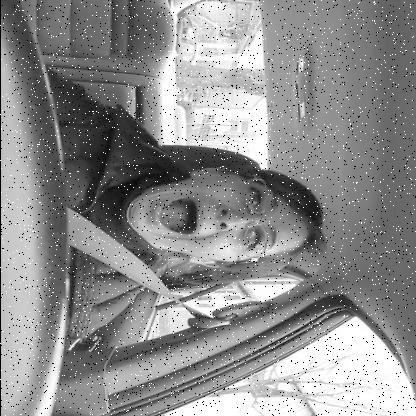seatbelt: (0, 143, 336, 334)
